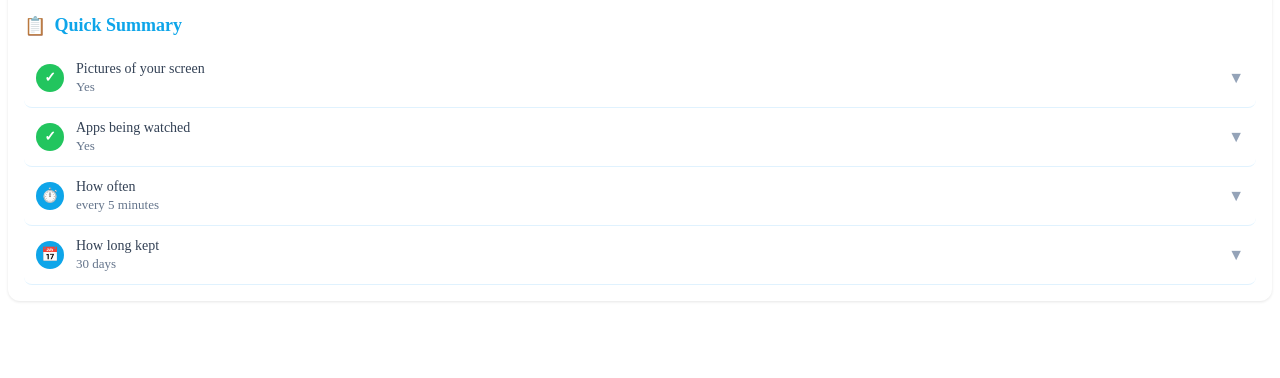
Test case: AgreementChecklist › Task 6.2: Expand/collapse functionality › should hide details when expanded item is clicked again
Click the button with test id "checklist-item-screenshots".
click(140, 68)  # box [24,49,1256,108]
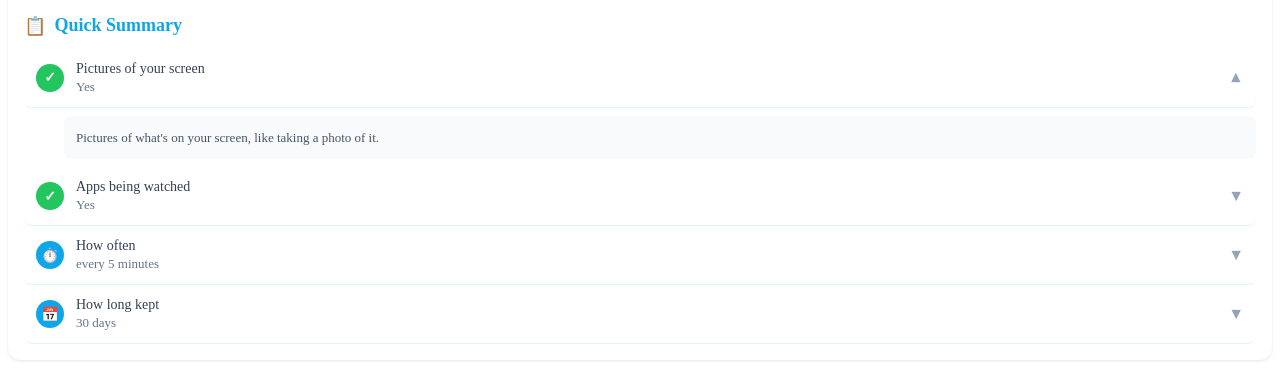
Now the text with test id "checklist-item-screenshots-details" is shown, box [64,116,1256,159]
Click the button with test id "checklist-item-screenshots".
click(140, 68)  # box [24,49,1256,108]
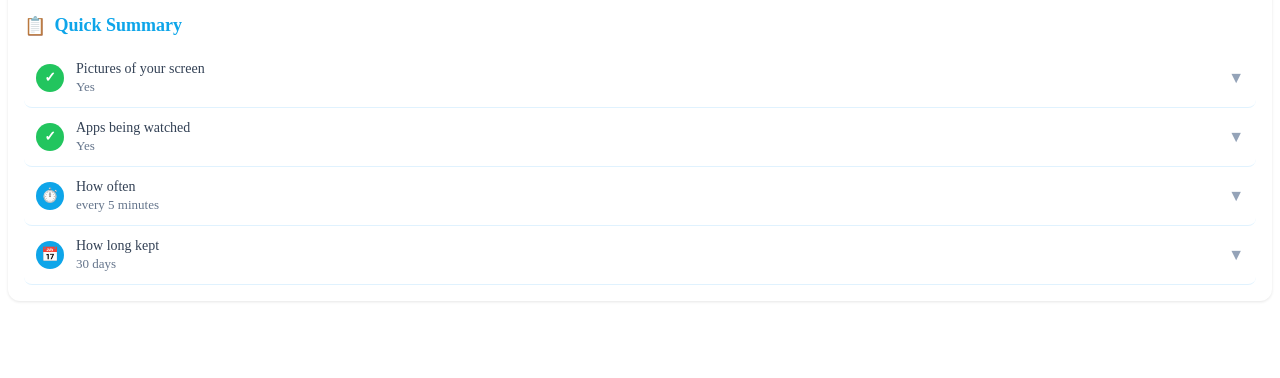
Now the text with test id "checklist-item-screenshots-details" is gone
